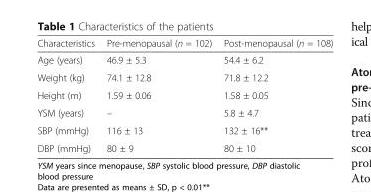table: (36, 37, 332, 153)
table column: (99, 37, 217, 153), (217, 37, 332, 153), (36, 37, 99, 153)
table column header: (36, 37, 332, 51)
table row: (36, 85, 332, 103), (36, 103, 332, 121), (36, 121, 332, 139), (36, 51, 332, 68), (36, 68, 332, 85), (36, 37, 332, 51), (36, 139, 332, 153)
